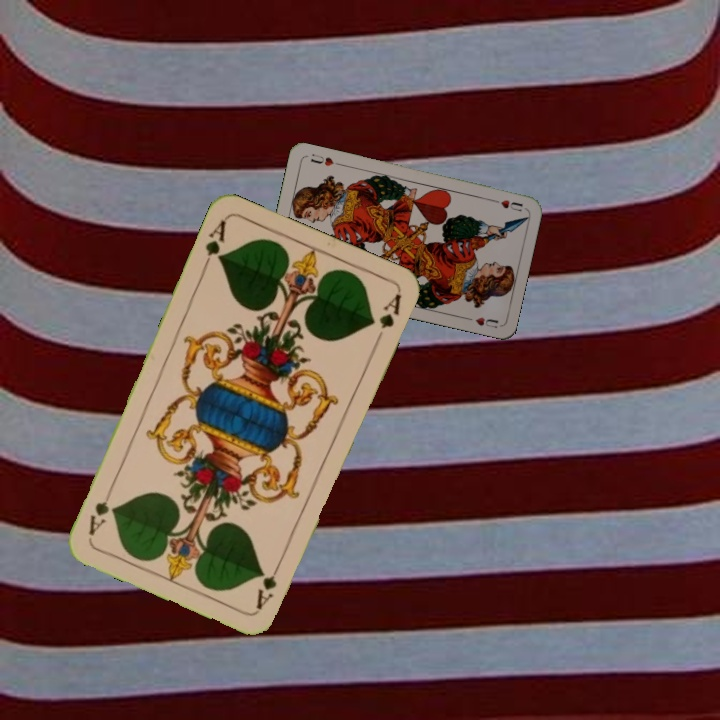GA: (252, 556, 285, 612), (198, 216, 229, 273)
HU: (487, 195, 525, 214)
